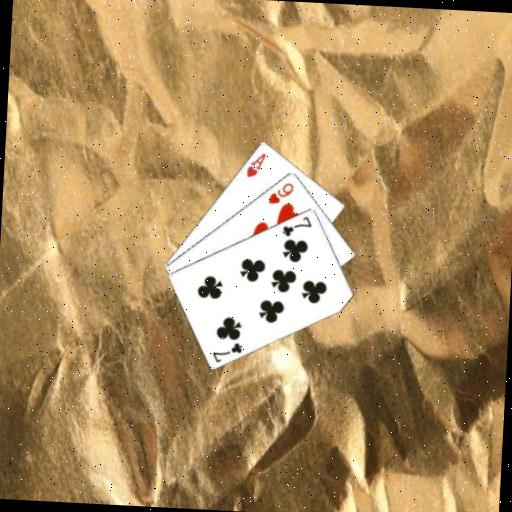7C: (279, 212, 314, 239), (210, 338, 245, 365)
9H: (266, 178, 296, 206)
AH: (243, 149, 268, 180)
